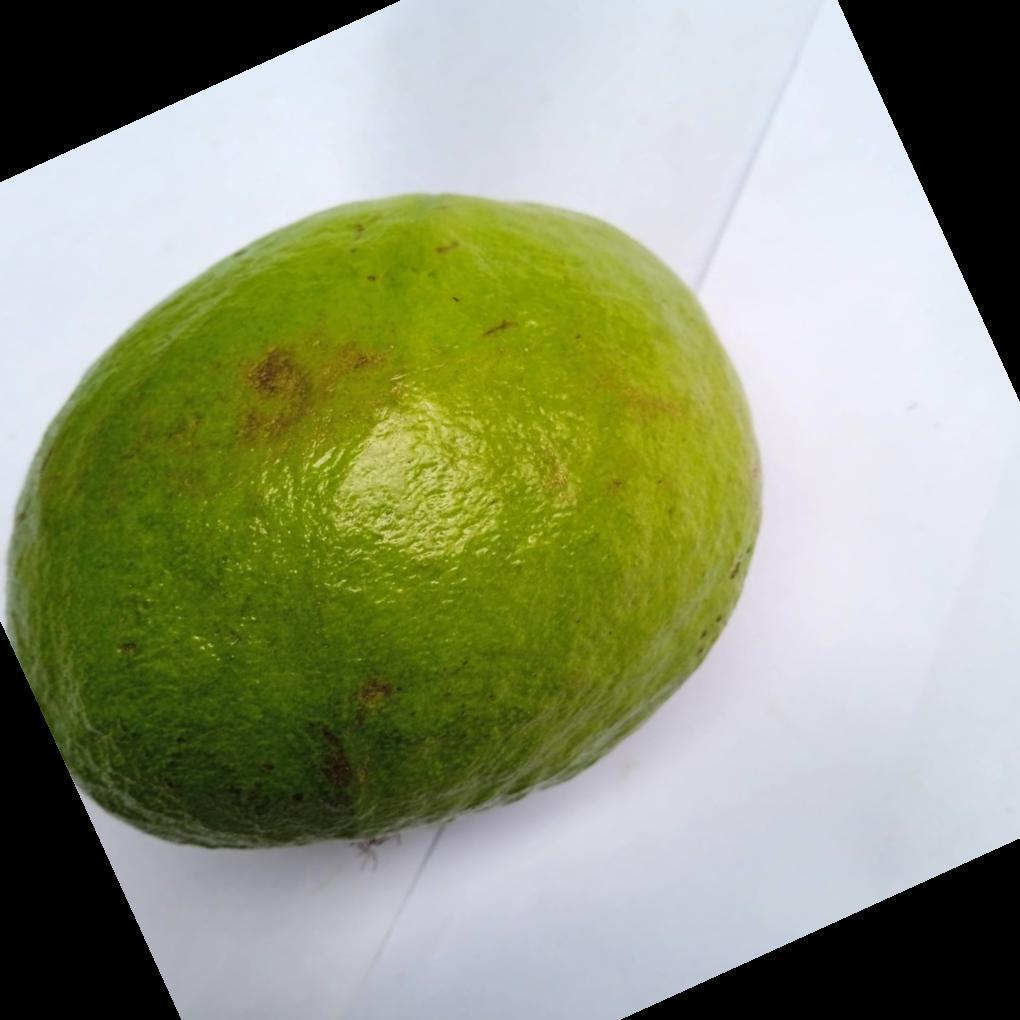FreshGuava: (1, 192, 764, 856)
